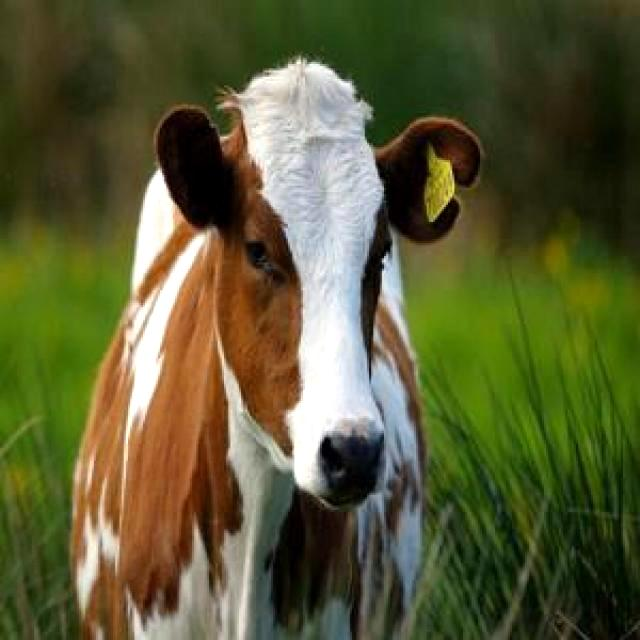COW: (72, 60, 480, 640)
